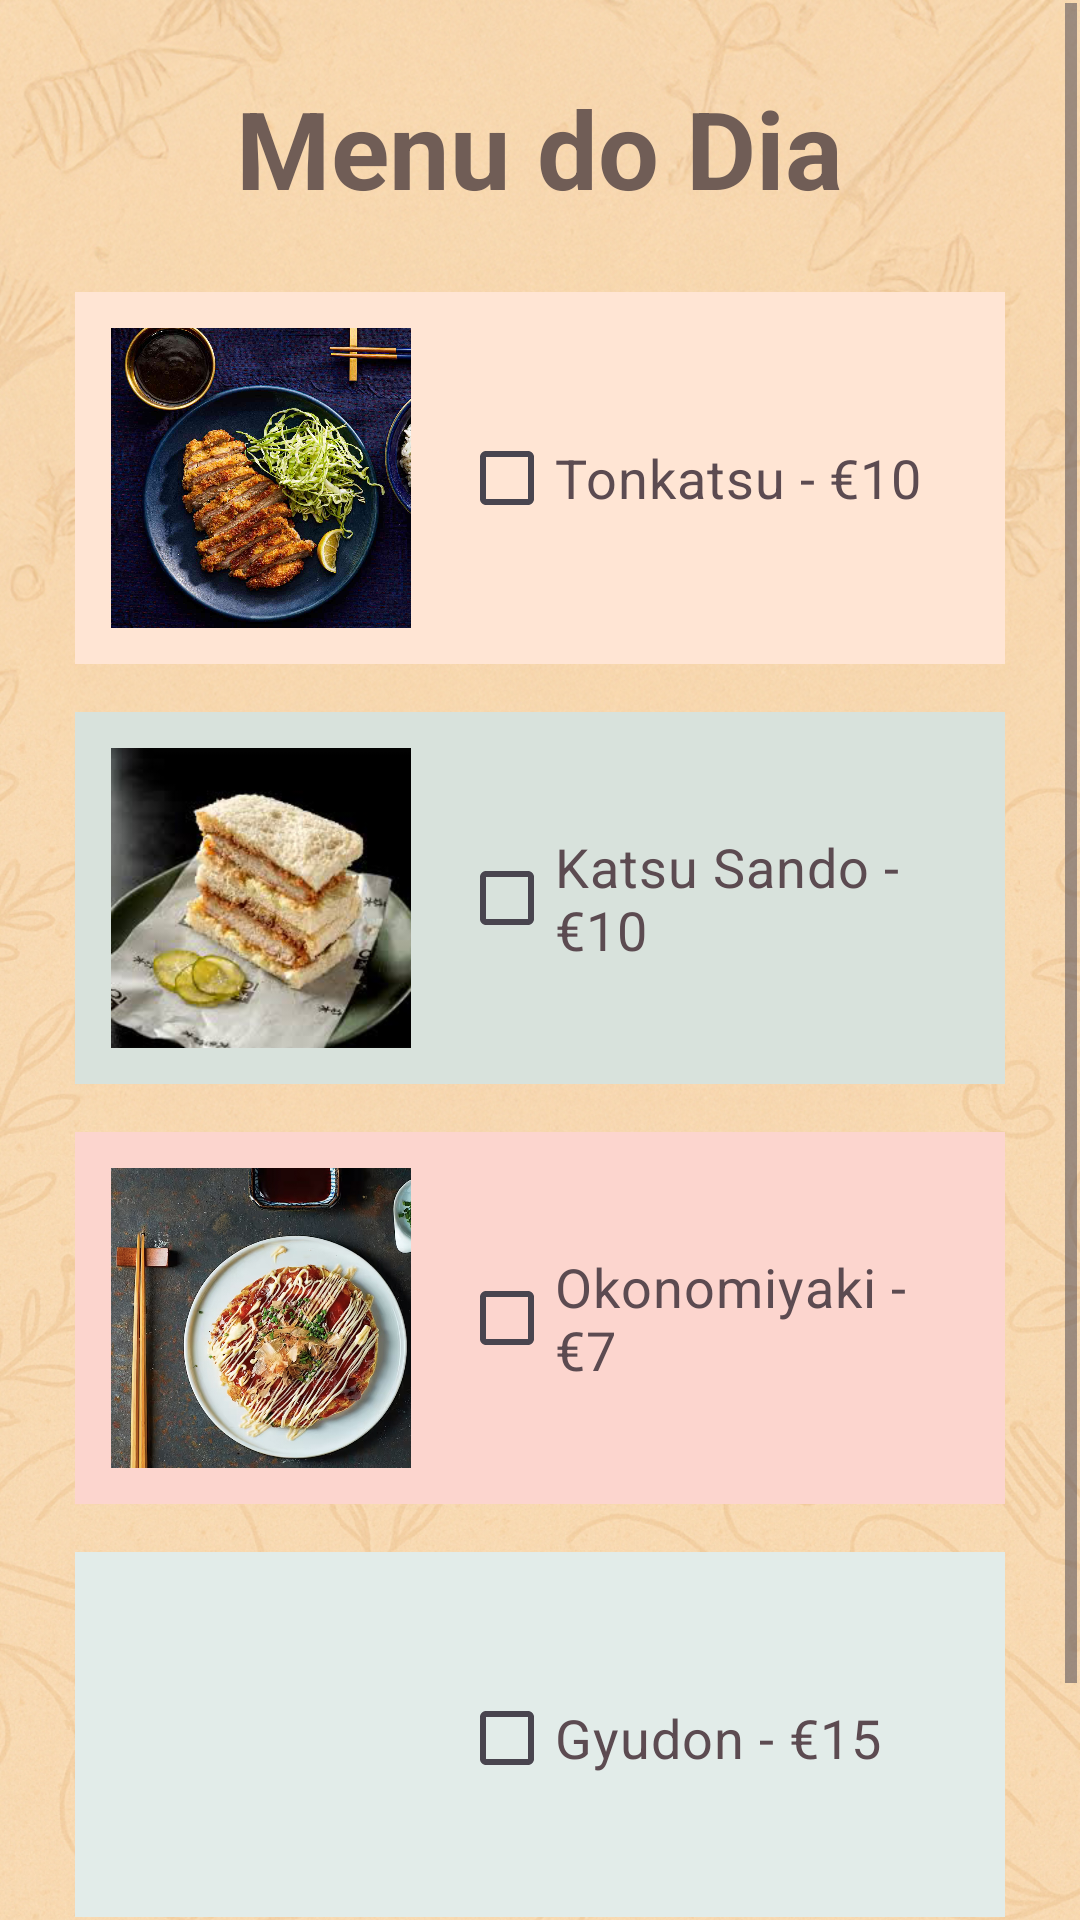

Icon click points for this 1080 x 1920 phone screenshot, format (x,y):
okonomiaki: (261,1318)
